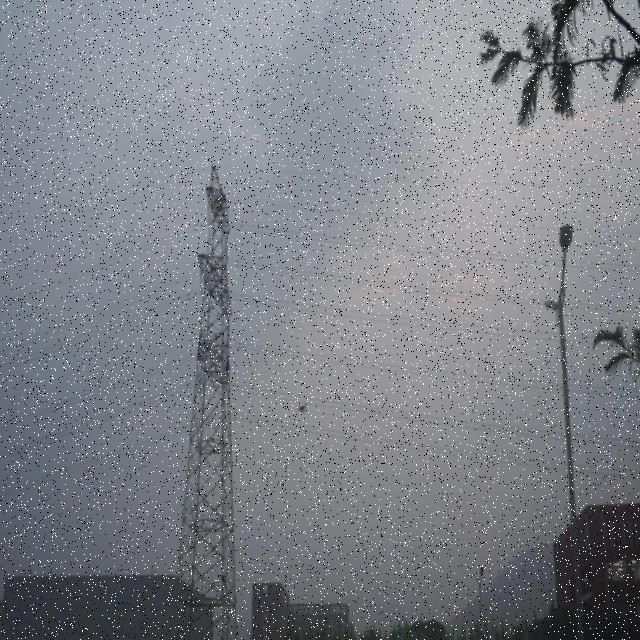UAV: (296, 402, 308, 414)
